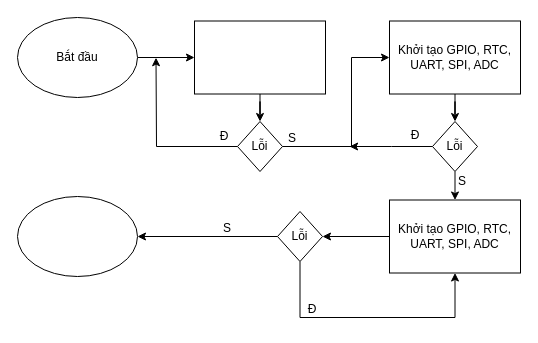
Image size: 538x343. Some labels were removed from this diagram. The shapes that lost their labels are listed below. From the top down, each one's box as (x1, y1, x2, y2) in pixels, then its label:
(194, 20, 326, 94): Khởi tạo Clock
(16, 196, 138, 276): Khởi tạo thành công
